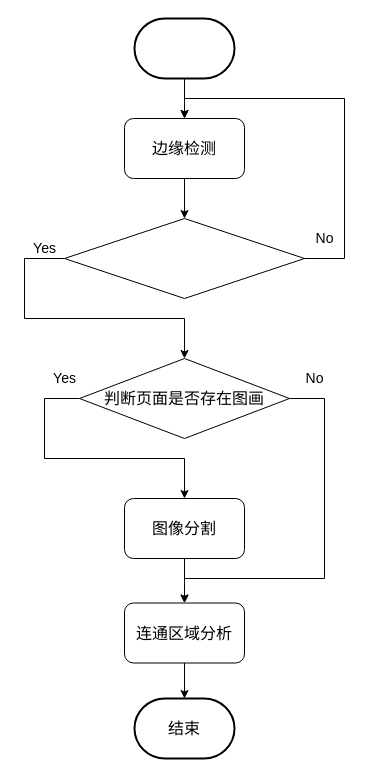
Image size: 370x776. Some labels were removed from this diagram. The shapes that lost their labels are listed below. From the top down, each one's box as (x1, y1, x2, y2) in pixels, then its label:
(133, 17, 235, 79): 开始
(64, 218, 304, 298): 判断是否扫描到完整页面
